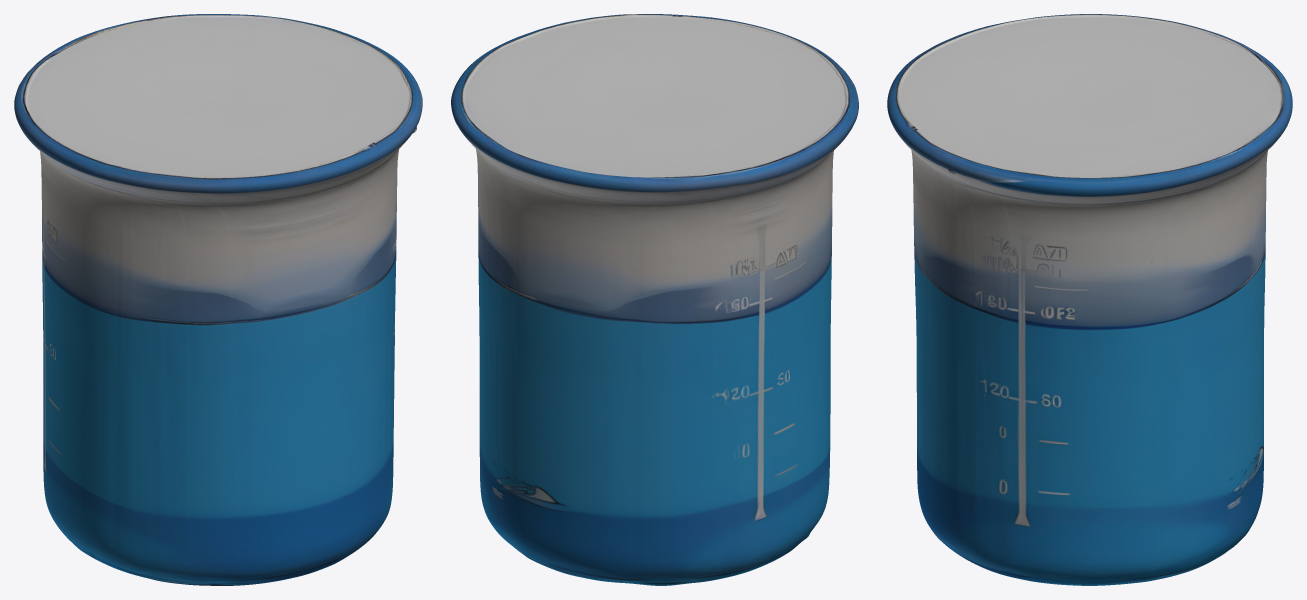
Rendered from Water.glb.
3 views of the same model, side by side, from view 1: azimuth 30°, elevation 25°; view 2: azimuth 150°, elevation 25°; view 3: azimuth 270°, elevation 25° (orthographic).
Visible parts, largest first — view 1: tripo_node_de5d1d9f-0945-4790-9705-23e488fef19e; view 2: tripo_node_de5d1d9f-0945-4790-9705-23e488fef19e; view 3: tripo_node_de5d1d9f-0945-4790-9705-23e488fef19e.
Boxes of the visible parts, <box> form: tripo_node_de5d1d9f-0945-4790-9705-23e488fef19e: <box>14,14,422,585</box>; tripo_node_de5d1d9f-0945-4790-9705-23e488fef19e: <box>451,14,858,585</box>; tripo_node_de5d1d9f-0945-4790-9705-23e488fef19e: <box>887,14,1292,585</box>.
Bounding box in the file's own units: 0.8588 × 1 × 0.853.
1 material, 1 textured.
